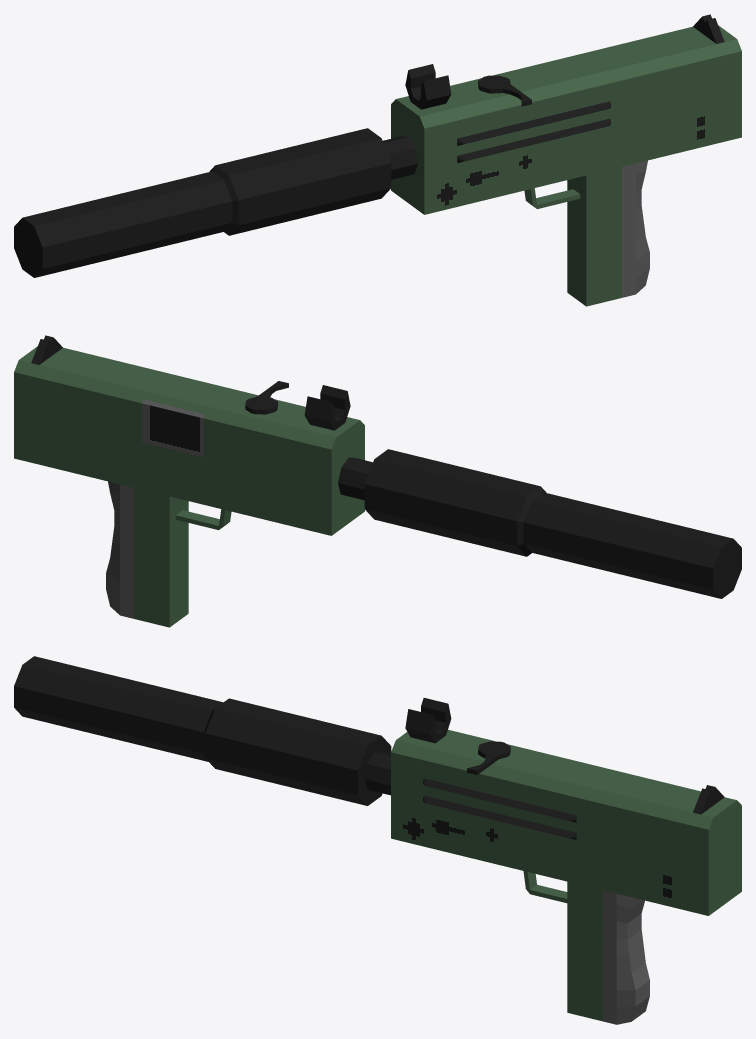
File: smg_1.gltf
The picture shows the model from 3 angles, top to bottom: view 1: azimuth 30°, elevation 25°; view 2: azimuth 150°, elevation 25°; view 3: azimuth 330°, elevation 25°; orthographic projection.
Parts seen in each view (by area): view 1: body, cylinder (×4), handel, cuboid (×3), tube; view 2: body, cylinder (×2), handel, cuboid (×3), tube; view 3: body, cylinder (×4), handel, tube, cuboid (×2).
Part boxes in pixels (x1,y1,x2,y2): body: [391, 25, 741, 214]; cylinder (×4): [14, 101, 610, 277]; handel: [567, 160, 649, 306]; cuboid (×3): [478, 14, 724, 208]; tube: [405, 64, 451, 109]; body: [14, 346, 364, 535]; cylinder (×2): [338, 449, 741, 598]; handel: [106, 481, 188, 627]; cuboid (×3): [31, 335, 288, 529]; tube: [304, 385, 350, 430]; body: [391, 729, 741, 915]; cylinder (×4): [14, 656, 576, 839]; handel: [567, 881, 649, 1024]; tube: [405, 698, 451, 743]; cuboid (×2): [467, 741, 567, 903].
Size of the model in its own units: 10.56 by 3.81 by 1.16.
Materials: 1 (1 with a texture image).
